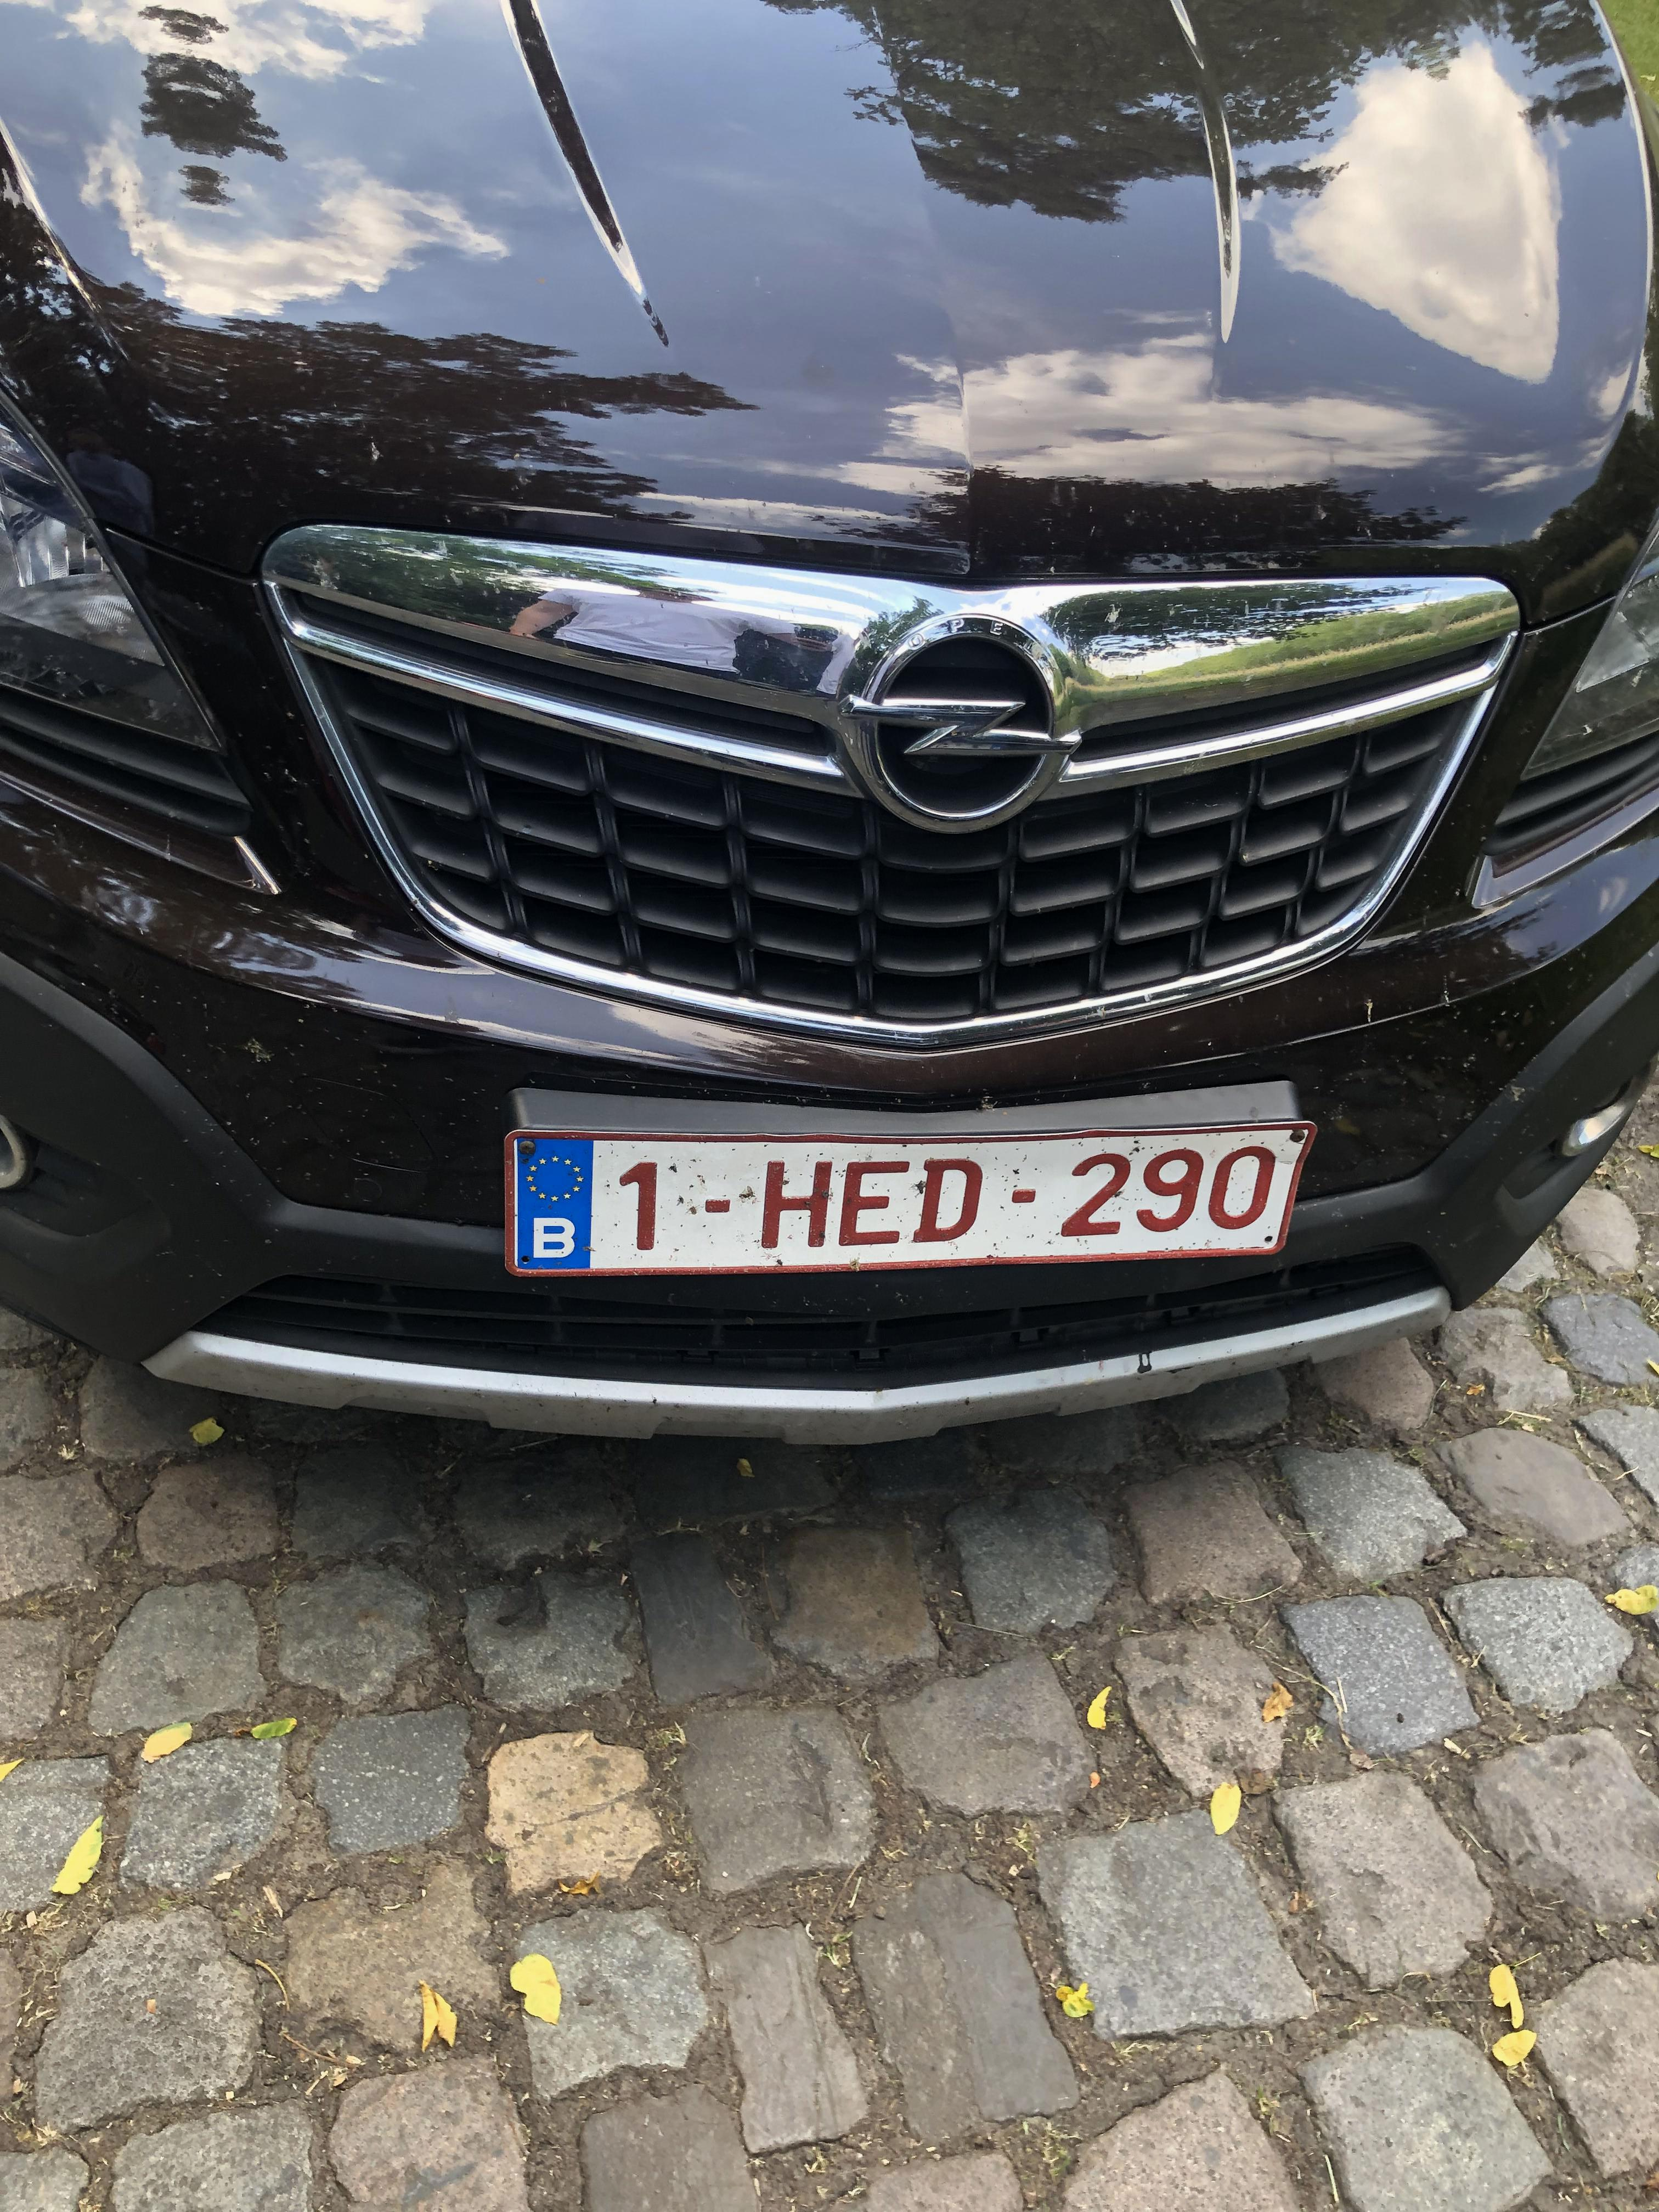plate: (480, 1086, 1328, 1296)
